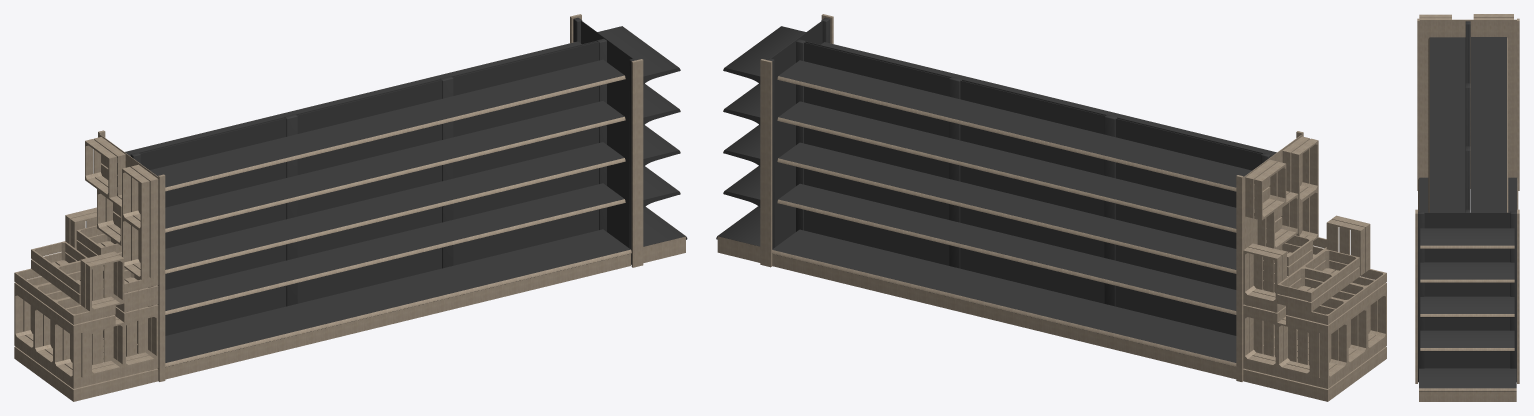
Rendered from SM_调料货架001.fbx.
3 views of the same model, side by side, from view 1: azimuth 30°, elevation 25°; view 2: azimuth 150°, elevation 25°; view 3: azimuth 270°, elevation 25° (orthographic). The views are drawn at different scales.
Visible parts, largest first — view 1: SM_调料货架001; view 2: SM_调料货架001; view 3: SM_调料货架001.
Boxes of the visible parts, x1,y1,x2,y2 form: SM_调料货架001: [14, 14, 687, 401]; SM_调料货架001: [716, 14, 1386, 401]; SM_调料货架001: [1415, 14, 1519, 401].
Size of the model in its own units: 470 by 150 by 83.46.
